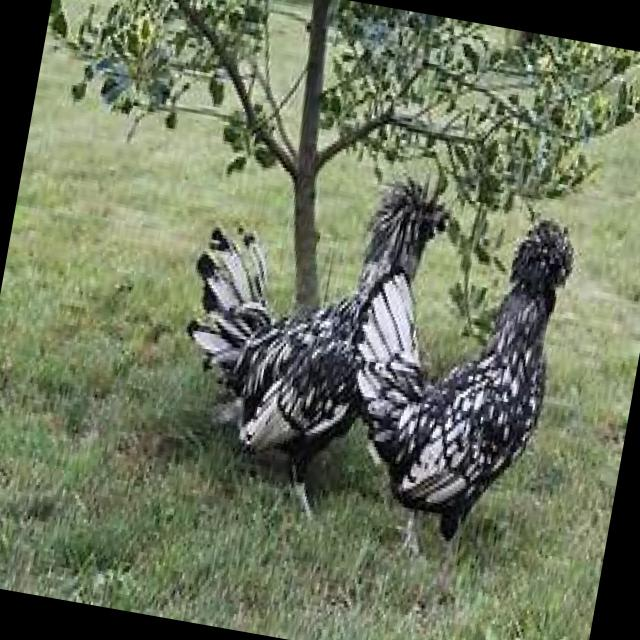animal: (158, 136, 458, 534), (316, 184, 582, 576)
